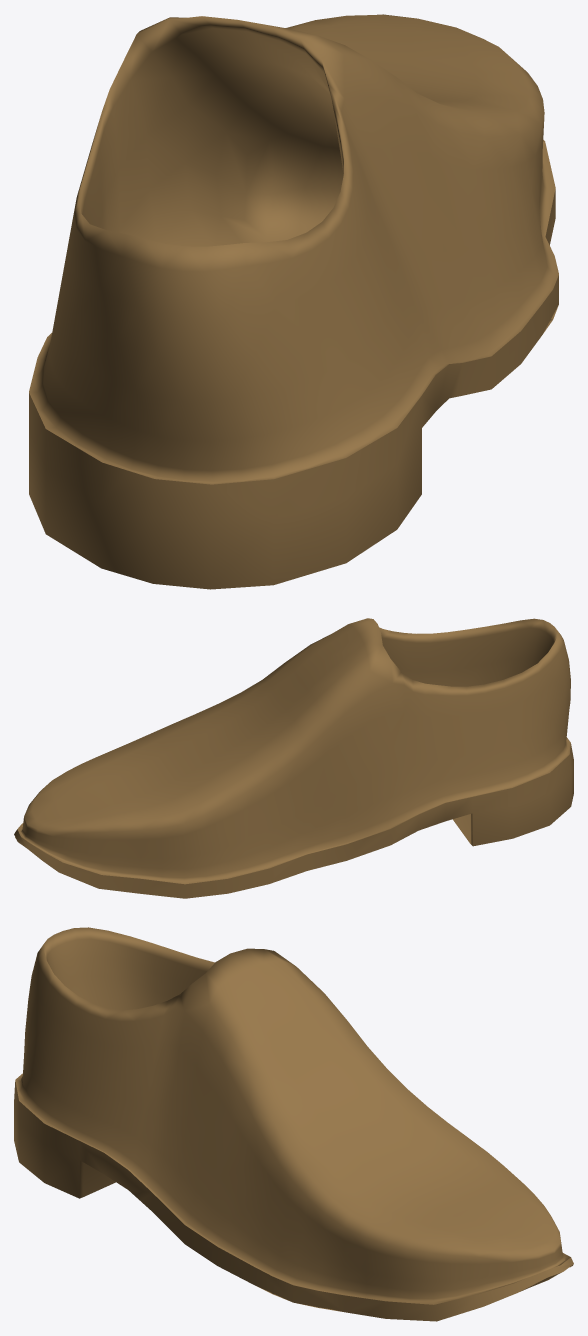
The model's file is Menshoe3.fbx.
The picture shows the model from 3 angles, top to bottom: view 1: azimuth 30°, elevation 25°; view 2: azimuth 150°, elevation 25°; view 3: azimuth 270°, elevation 25°; orthographic projection. The views are drawn at different scales.
Parts seen in each view (by area): view 1: Shoe5; view 2: Shoe5; view 3: Shoe5.
Part boxes in pixels (<box>): Shoe5: <box>29,14,558,589</box>; Shoe5: <box>14,618,573,898</box>; Shoe5: <box>14,927,573,1321</box>.
Bounding box in the file's own units: 3.81 × 2.01 × 4.2.
